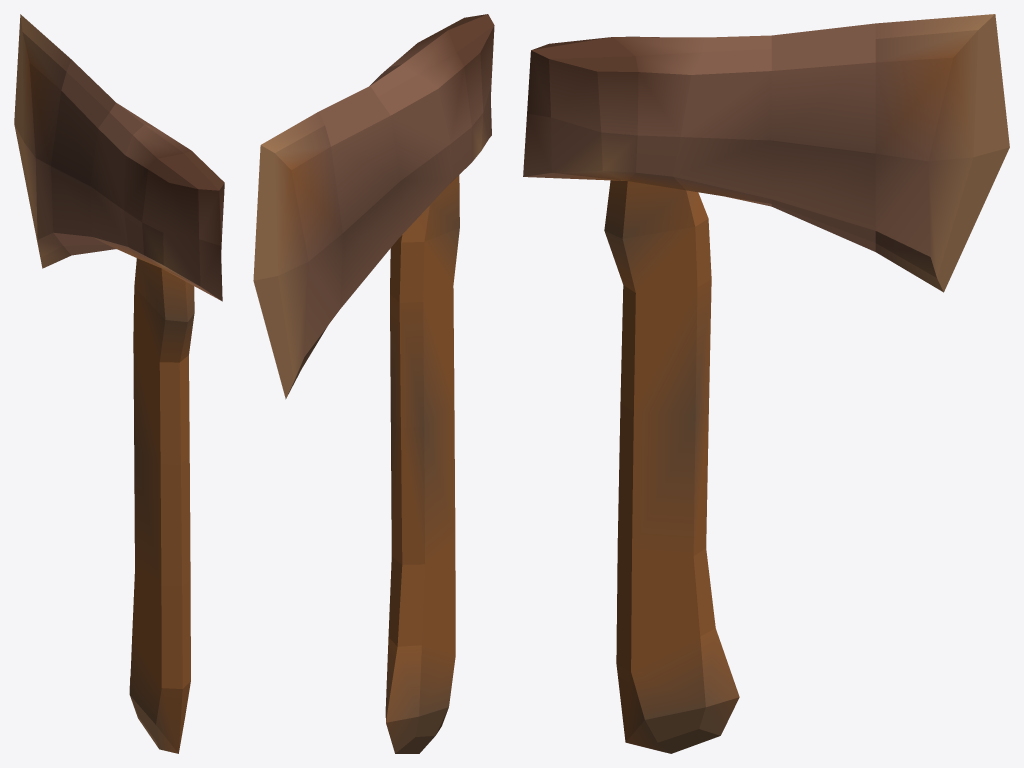
File: woodenAxe.fbx
The picture shows the model from 3 angles, left to right: view 1: azimuth 30°, elevation 25°; view 2: azimuth 150°, elevation 25°; view 3: azimuth 270°, elevation 25°; orthographic projection. The views are drawn at different scales.
Parts seen in each view (by area): view 1: Plane.001; view 2: Plane.001; view 3: Plane.001.
Boxes of the visible parts, left/top/right/bottom form: Plane.001: left=14, top=14, right=224, bottom=753; Plane.001: left=253, top=14, right=494, bottom=753; Plane.001: left=523, top=14, right=1009, bottom=753.
Size of the model in its own units: 48.24 by 464 by 277.
